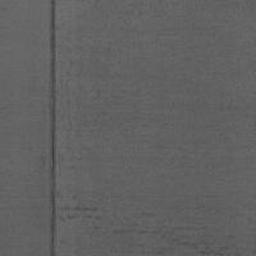Welding line: (49, 0, 58, 256)
